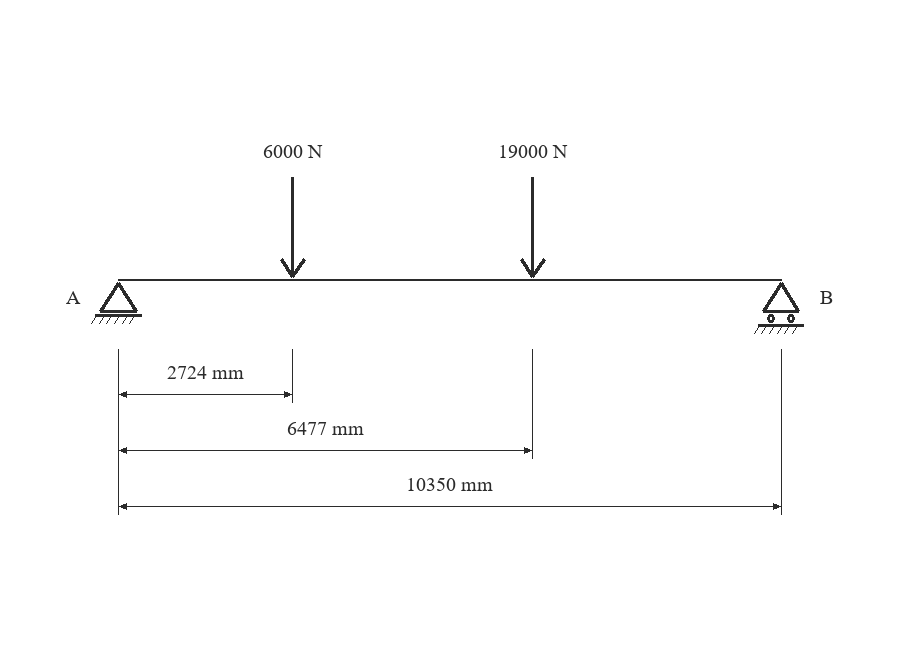pin_support: (91, 282, 142, 324)
point_load: (280, 177, 306, 278), (520, 177, 546, 278)
roller_support: (754, 282, 804, 334)
